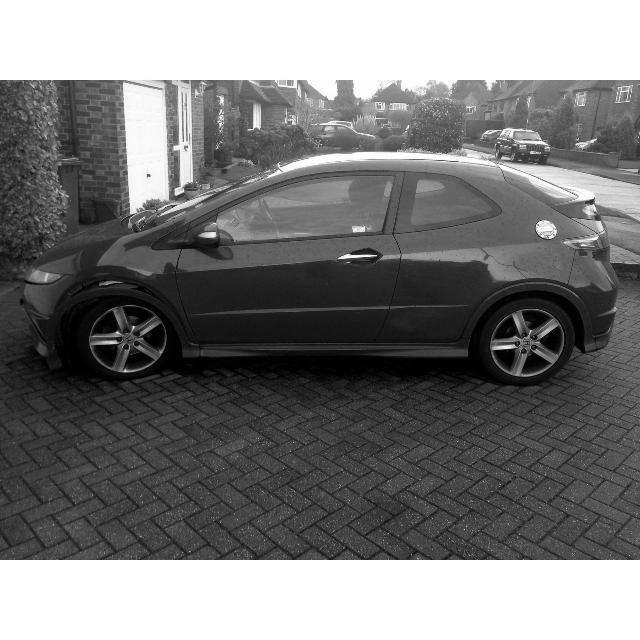Runningboard-Damage: (182, 346, 468, 367)
fender-dent: (76, 244, 181, 324)
